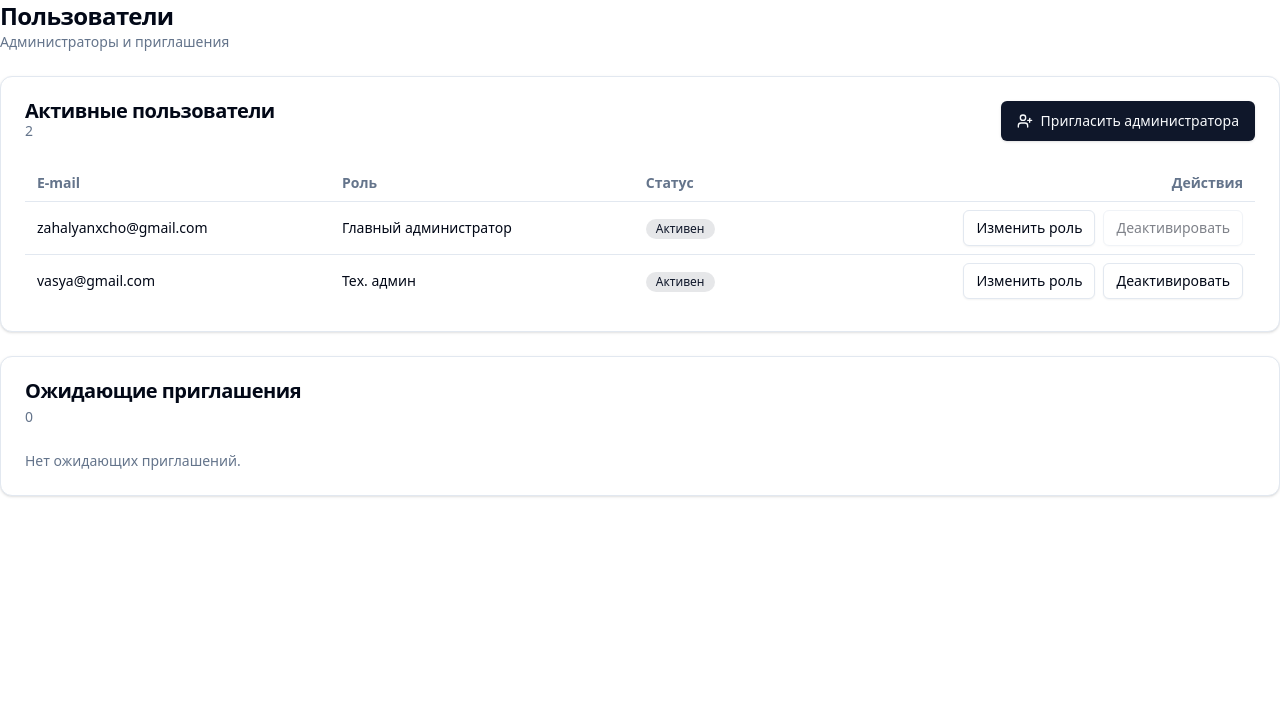
Test case: UsersPage › blocks demoting the last active super_admin
Open role change for the only super_admin
Click the button "Изменить роль" in the row of "zahalyanxcho@gmail.com".
click(1030, 228)  # box [964,210,1096,246]
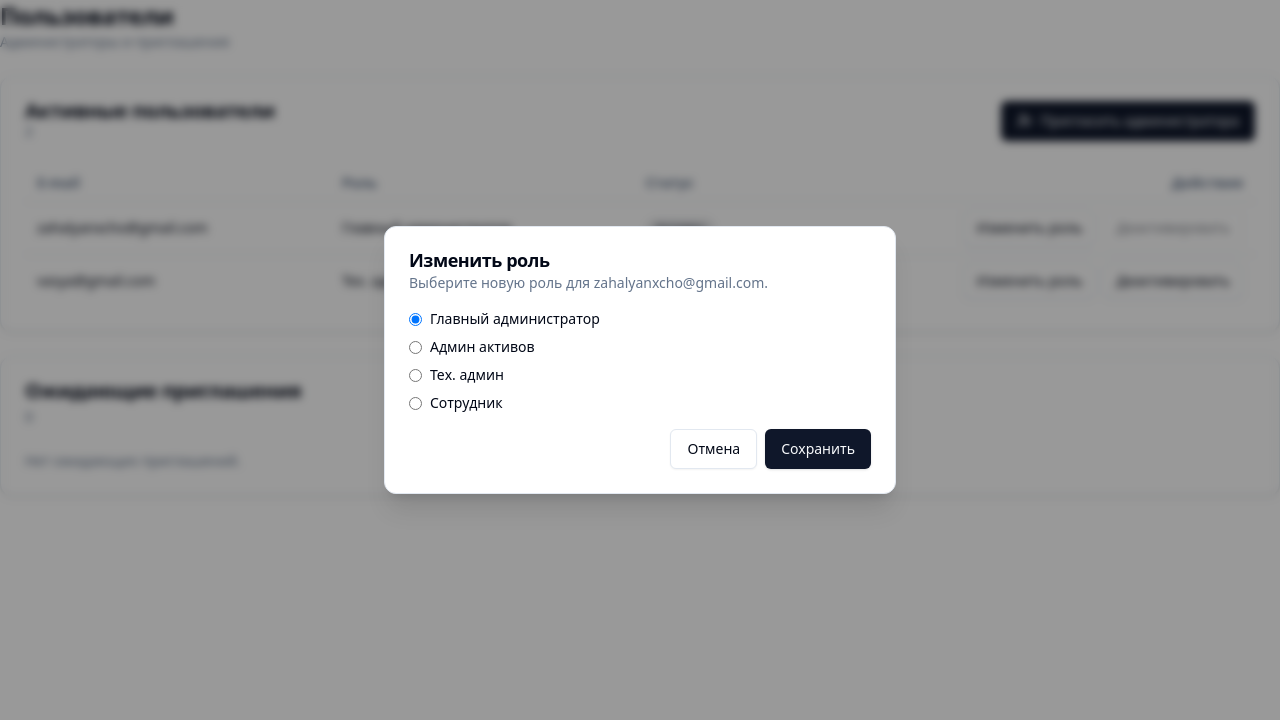
Pick a non-super_admin role
Click the radio button labelled "Тех. админ".
click(416, 375)  # box [409,368,422,382]
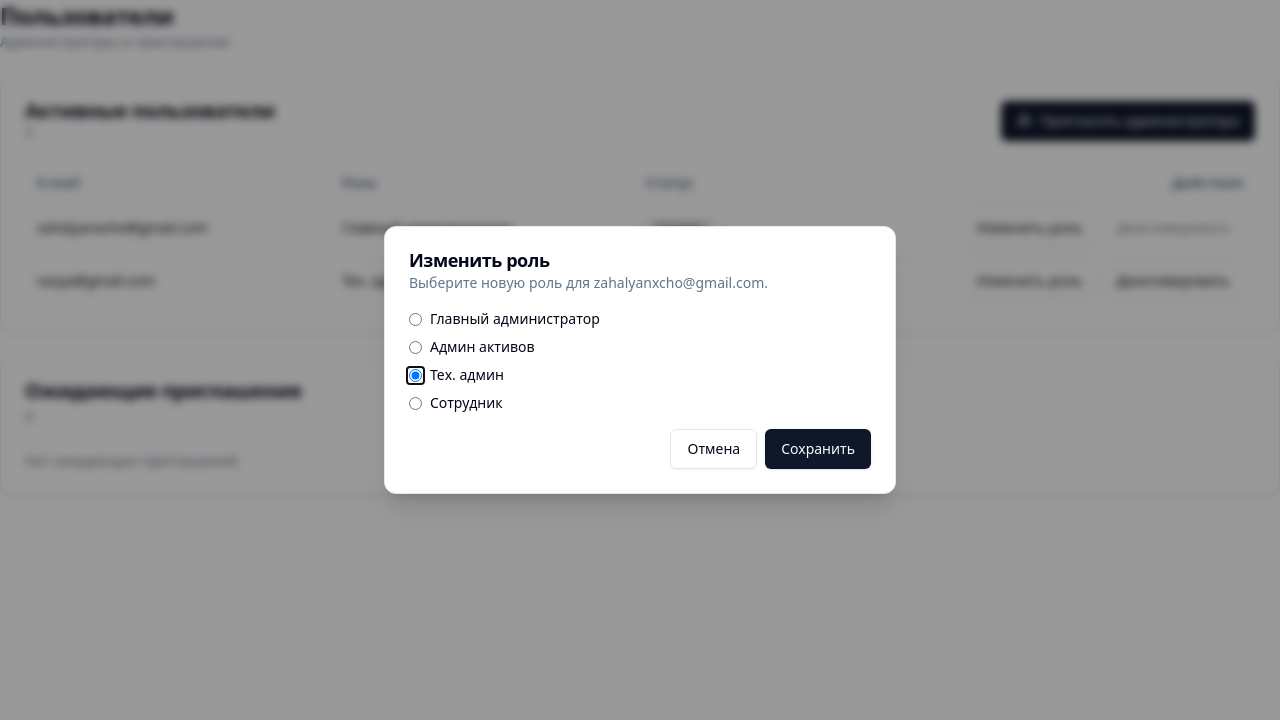
Click the button "Сохранить".
click(818, 449)  # box [765,429,871,469]
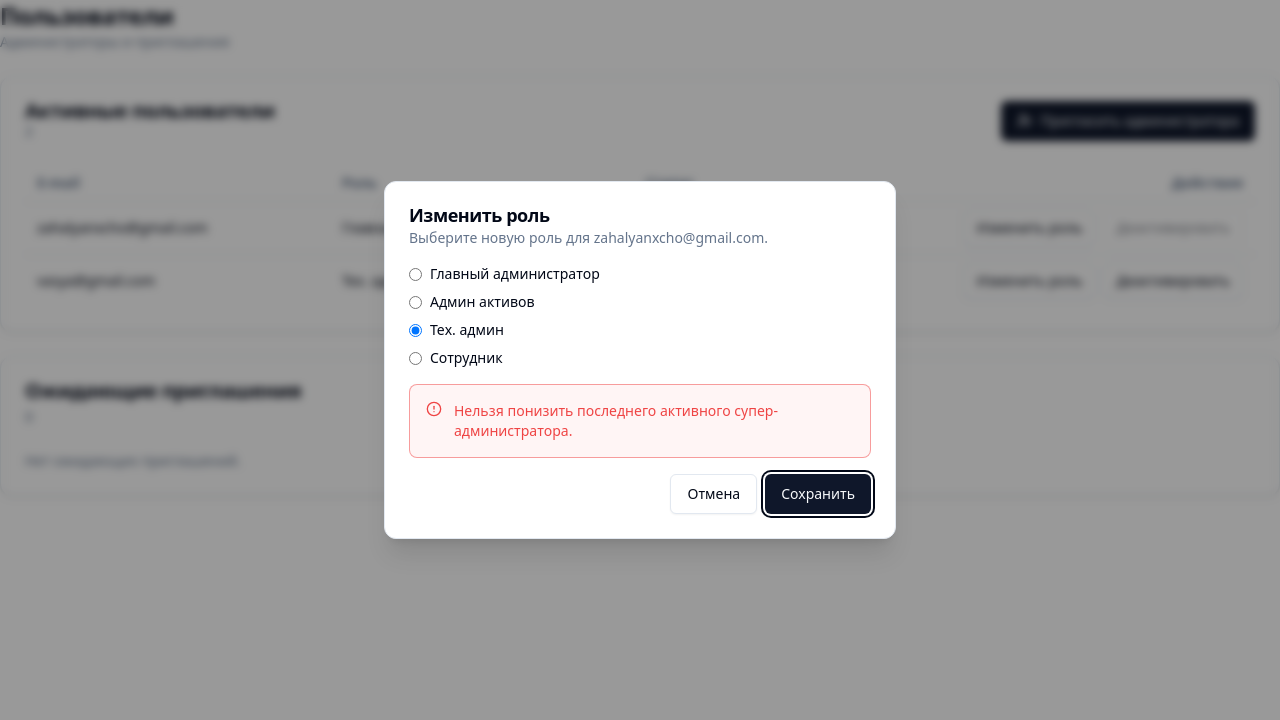
Expected: the text "Нельзя понизить последнего активного супер-администратора." is shown, [454,401,778,440]
